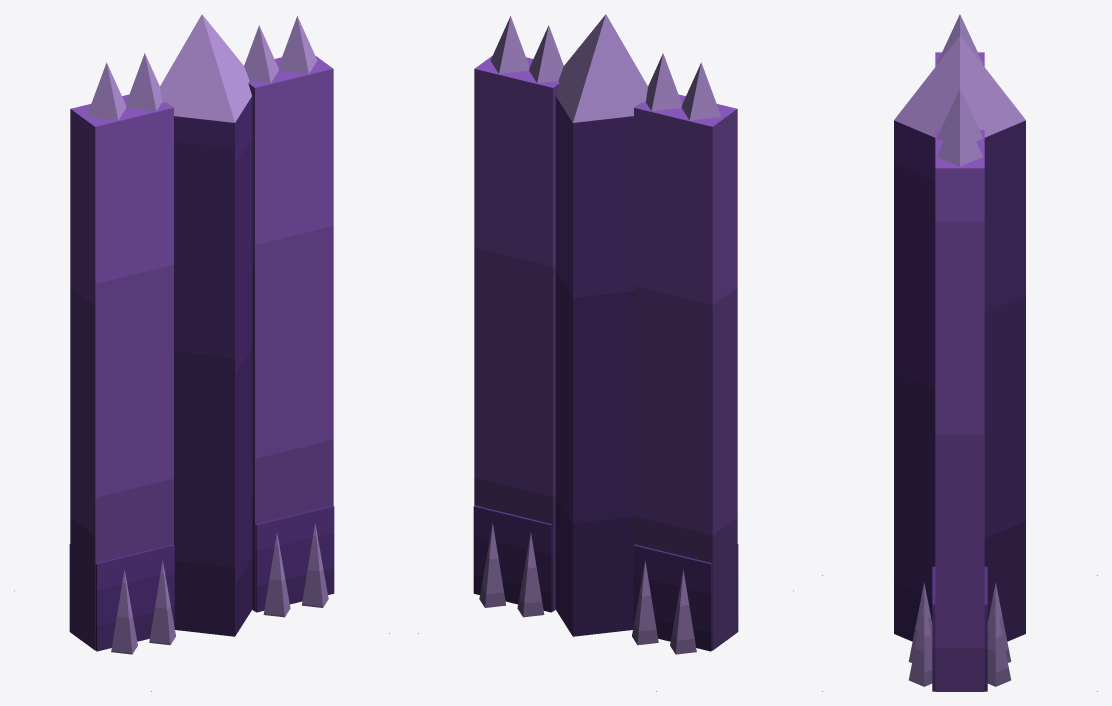
The model's file is wall_crystal_straight.glb.
3 renders of one model, left to right at view 1: azimuth 30°, elevation 25°; view 2: azimuth 150°, elevation 25°; view 3: azimuth 270°, elevation 25°, orthographic.
Bounding box in the file's own units: 1 × 2.4 × 1.
Materials: 1 (1 with a texture image).
